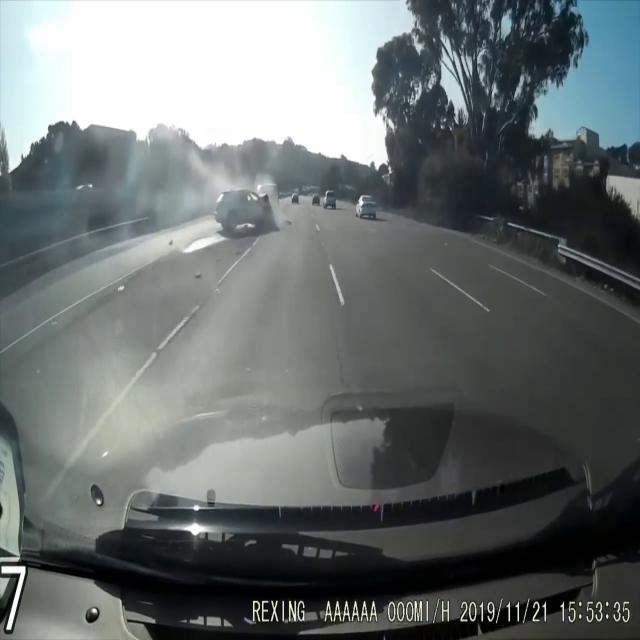accident: (220, 179, 289, 239)
